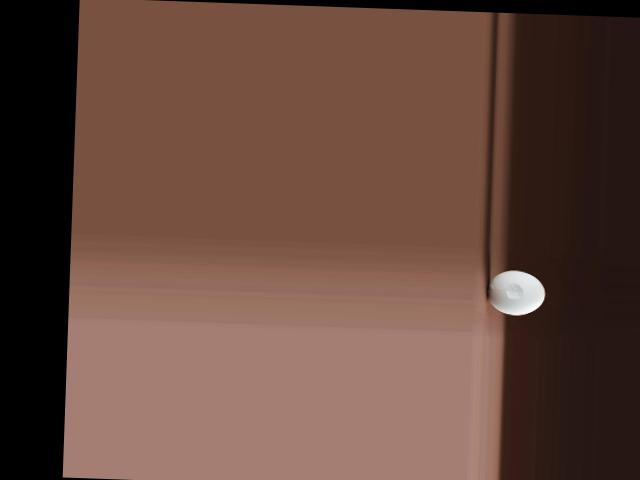egg: (486, 269, 546, 316)
